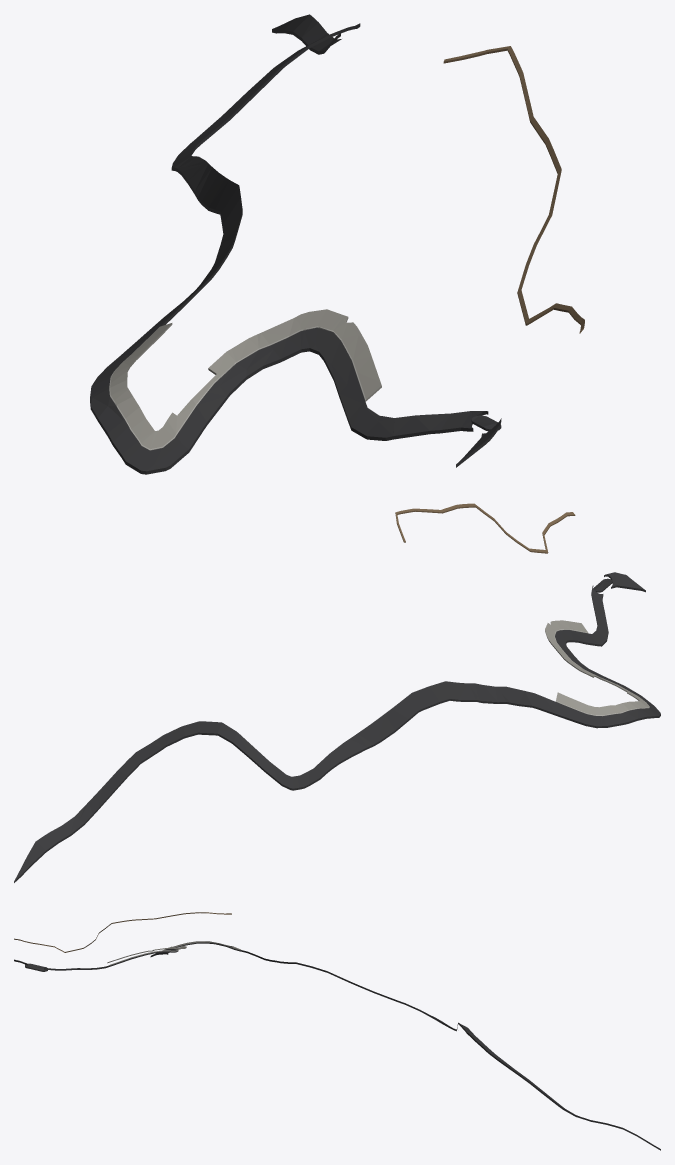
3 views of the same model, one above another, from view 1: azimuth 30°, elevation 25°; view 2: azimuth 150°, elevation 25°; view 3: azimuth 270°, elevation 25° (orthographic). The views are drawn at different scales.
Size of the model in its own units: 238 by 132 by 416.
